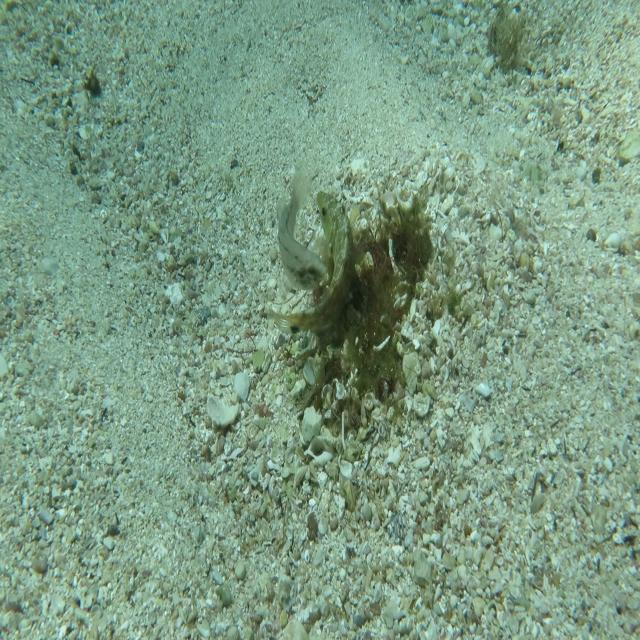DAN_CIRC: (265, 189, 356, 336)
core_nest: (358, 234, 404, 281)
female: (276, 162, 328, 294)
nest: (302, 162, 452, 435)
